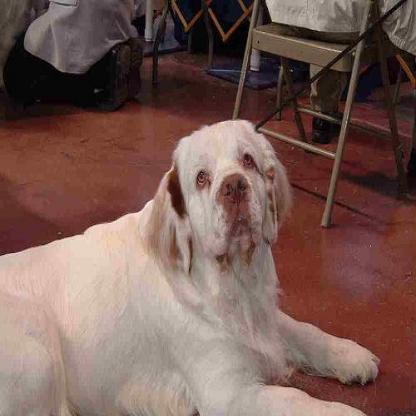clumber: (2, 115, 388, 414)
